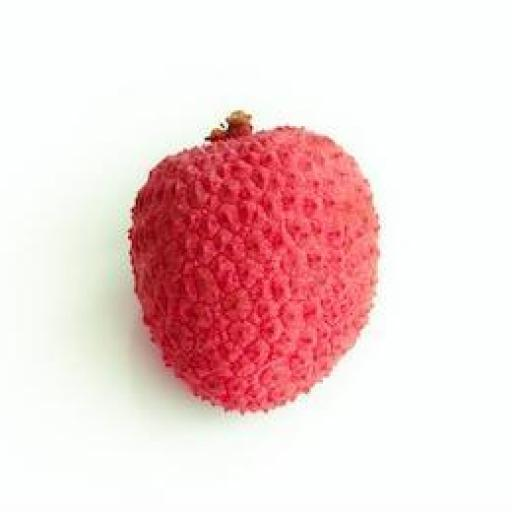lychee: (129, 113, 377, 411)
